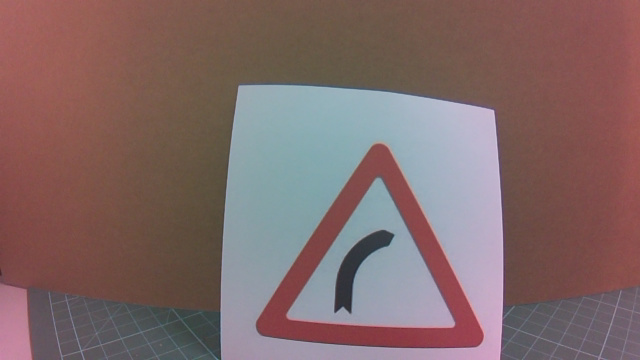right: (279, 178, 479, 354)
